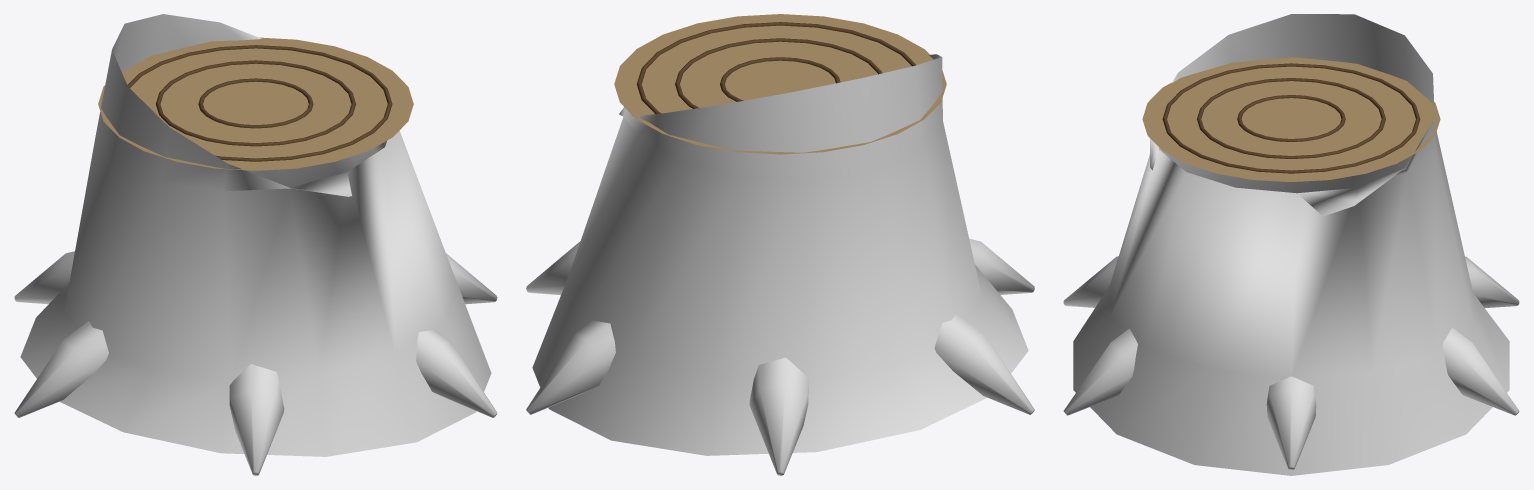
Rendered from SM_DF_Stump_1.fbx.
The picture shows the model from 3 angles, left to right: view 1: azimuth 30°, elevation 25°; view 2: azimuth 150°, elevation 25°; view 3: azimuth 270°, elevation 25°; orthographic projection. The views are drawn at different scales.
Parts seen in each view (by area): view 1: SM_DF_Stump_1; view 2: SM_DF_Stump_1; view 3: SM_DF_Stump_1.
Boxes of the visible parts, box(x1,y1,x2,y2) form: SM_DF_Stump_1: box(14, 14, 497, 475); SM_DF_Stump_1: box(526, 14, 1034, 475); SM_DF_Stump_1: box(1063, 14, 1519, 475).
Size of the model in its own units: 190 by 165 by 127.
